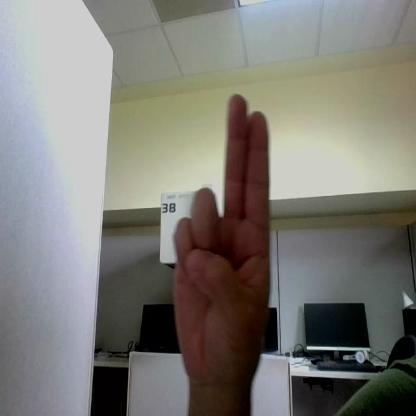U: (175, 93, 270, 380)
